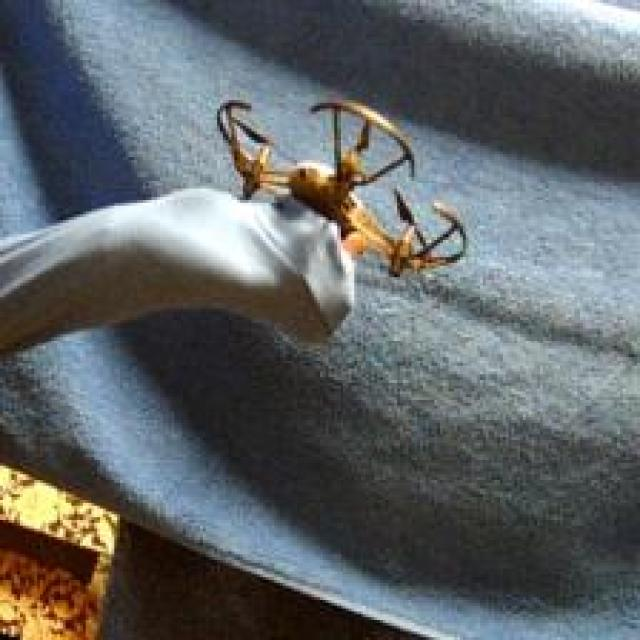drone: (212, 93, 472, 284)
